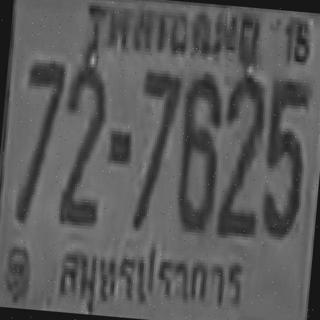N02: (55, 64, 110, 226), (215, 73, 268, 232)
N05: (258, 78, 310, 236)
N06: (172, 70, 223, 230)
N07: (14, 59, 65, 226), (129, 67, 181, 228)
P57: (49, 232, 247, 320)
